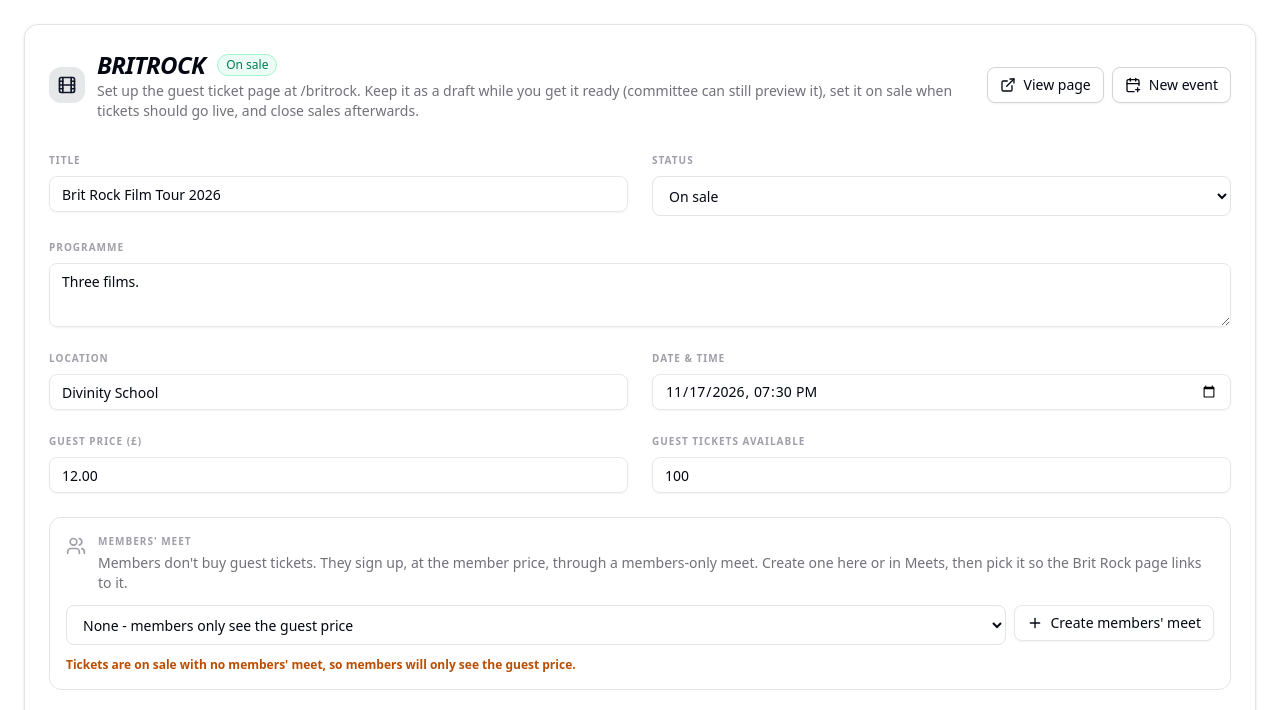
Test: BritRock committee page — members' meet › warns when tickets are on sale with no members meet
Expected: the text "members will only see the guest price" is shown, [66,656,576,673]
Select "Draft (hidden)" in the dropdown labelled "Status": (942, 196) [652,176,1231,216]
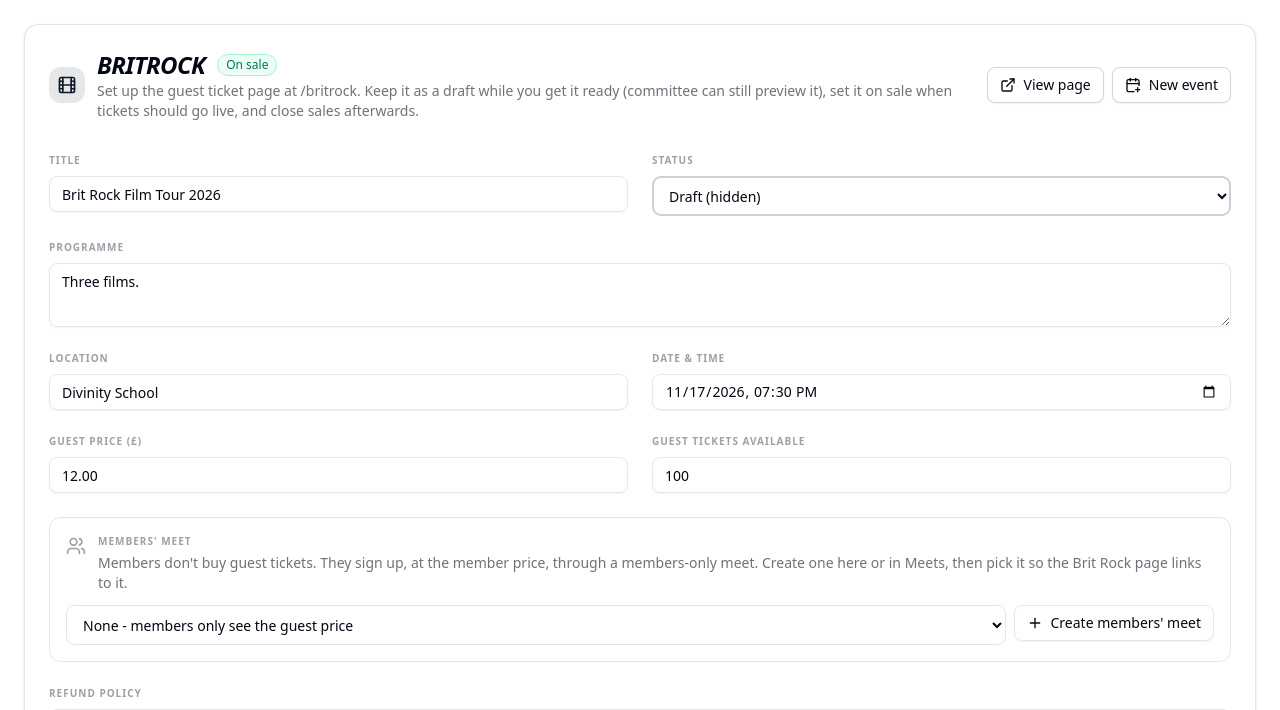
Expected: the text "members will only see the guest price" is gone
